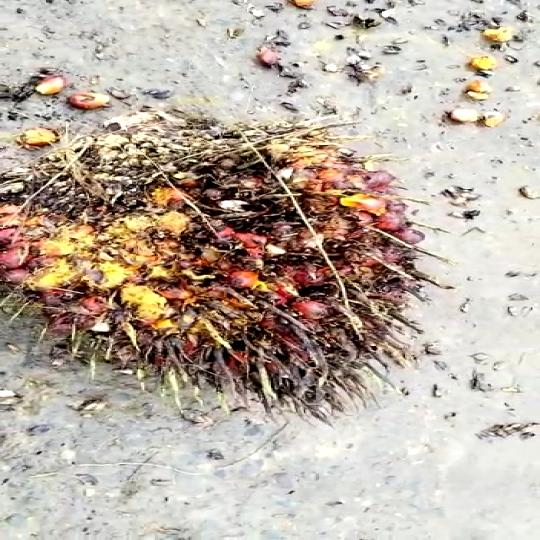terlalu masak: (0, 112, 460, 445)
